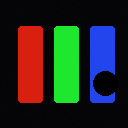2 circle: (93, 71, 117, 95)
